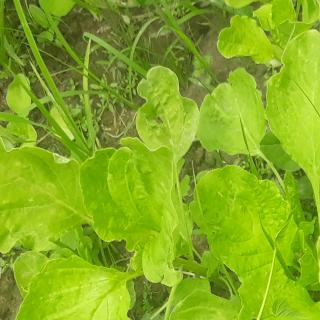karat_putih: (318, 224, 320, 317)
virus_keriting: (188, 164, 299, 274), (134, 63, 198, 151), (199, 69, 262, 127), (217, 14, 270, 66), (143, 228, 186, 290)
